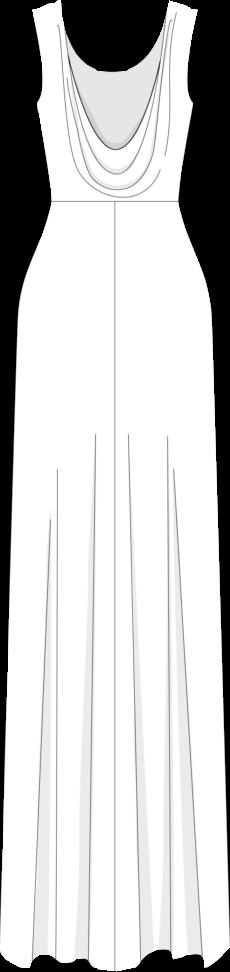Bodice: (32, 0, 197, 201)
Hemline: (0, 939, 229, 971)
Neckline: (54, 0, 180, 153)
Skirt: (0, 200, 229, 969)
Waistline: (49, 192, 181, 205)
